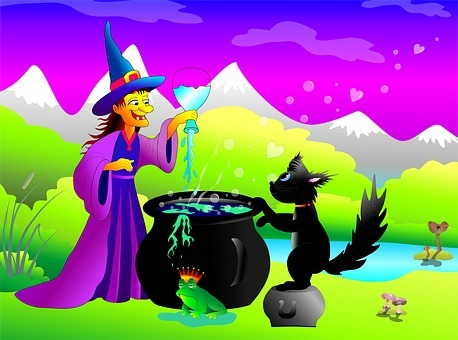bottle: (168, 66, 215, 138)
cat: (249, 150, 390, 289)
person: (65, 20, 174, 306)
